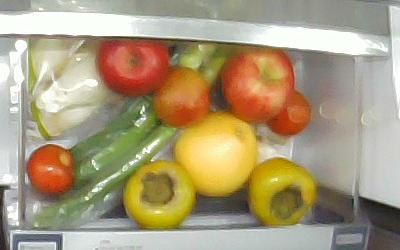apple: (218, 47, 295, 119), (98, 37, 170, 96)
grapefruit: (175, 112, 258, 196)
persimmon: (124, 161, 195, 230), (249, 159, 315, 224)
prune: (151, 68, 209, 128), (27, 144, 73, 195), (266, 89, 312, 136)
